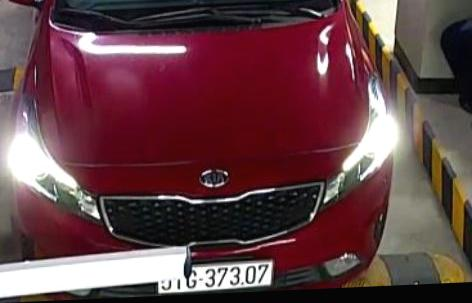License_Plate: (152, 253, 278, 295)
